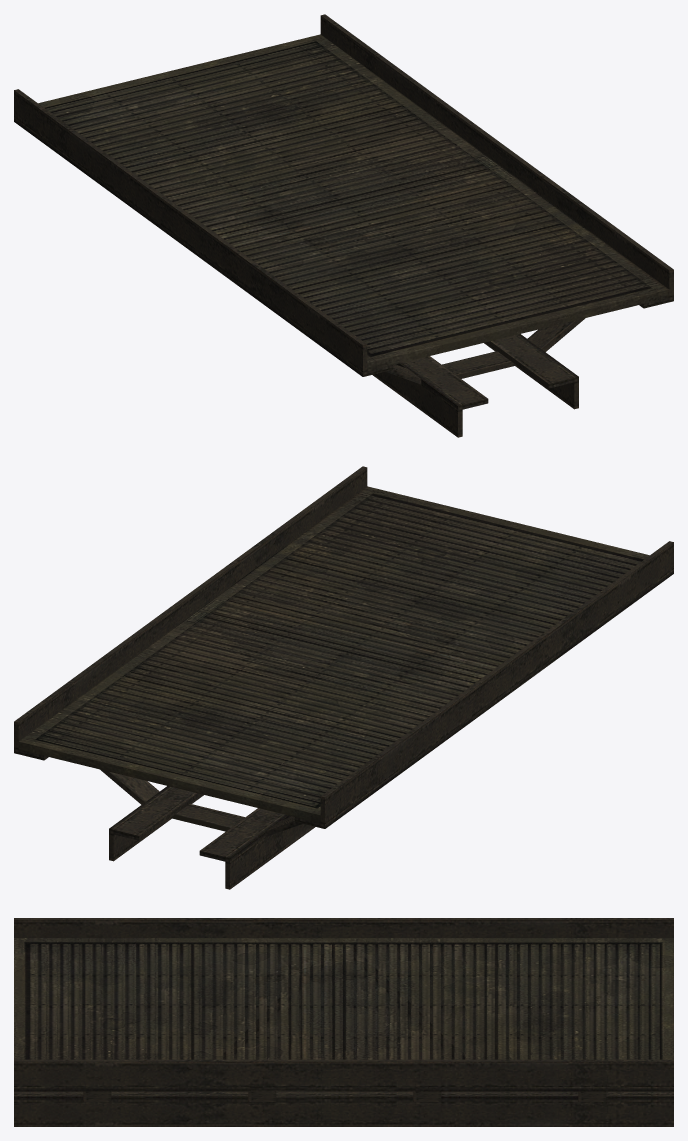
File: platform_bx_1.dae
3 views of the same model, one above another, from view 1: azimuth 30°, elevation 25°; view 2: azimuth 150°, elevation 25°; view 3: azimuth 270°, elevation 25° (orthographic). The views are drawn at different scales.
Visible parts, largest first — view 1: platform_bx_1; view 2: platform_bx_1; view 3: platform_bx_1.
Boxes of the visible parts, bbox=[...] form: platform_bx_1: bbox=[14, 14, 673, 437]; platform_bx_1: bbox=[14, 466, 673, 889]; platform_bx_1: bbox=[14, 918, 673, 1126].
Size of the model in its own units: 2.06 by 4 by 0.73.
Materials: 2 (2 with a texture image).
